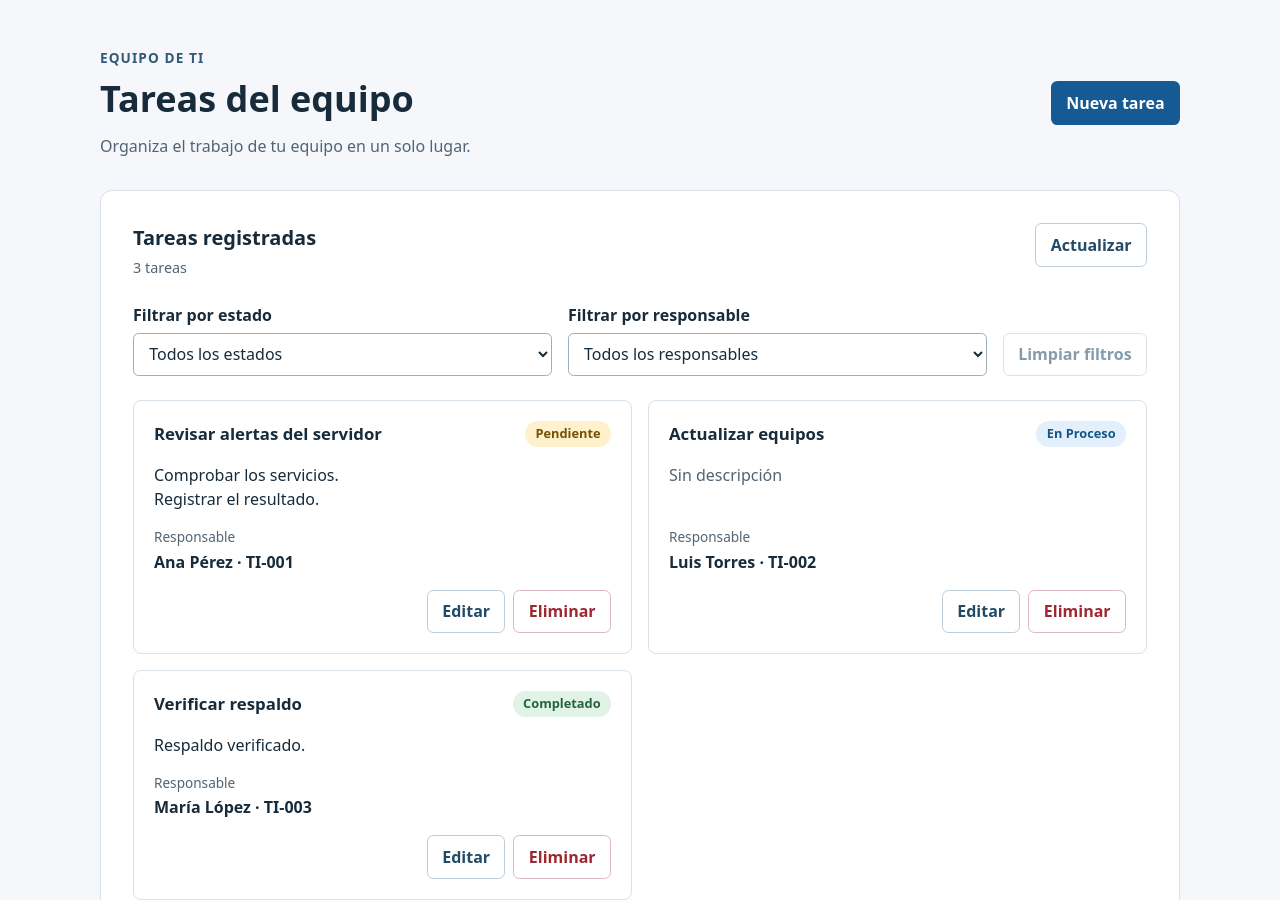
Test case: Filtros de estado y responsable › muestra únicamente las tareas en PENDIENTE
Expected: the list named "Tareas registradas" is shown, [133, 400, 1147, 899]
Select "Pendiente" in the dropdown labelled "Filtrar por estado" at (342, 354), box [133, 333, 552, 376]
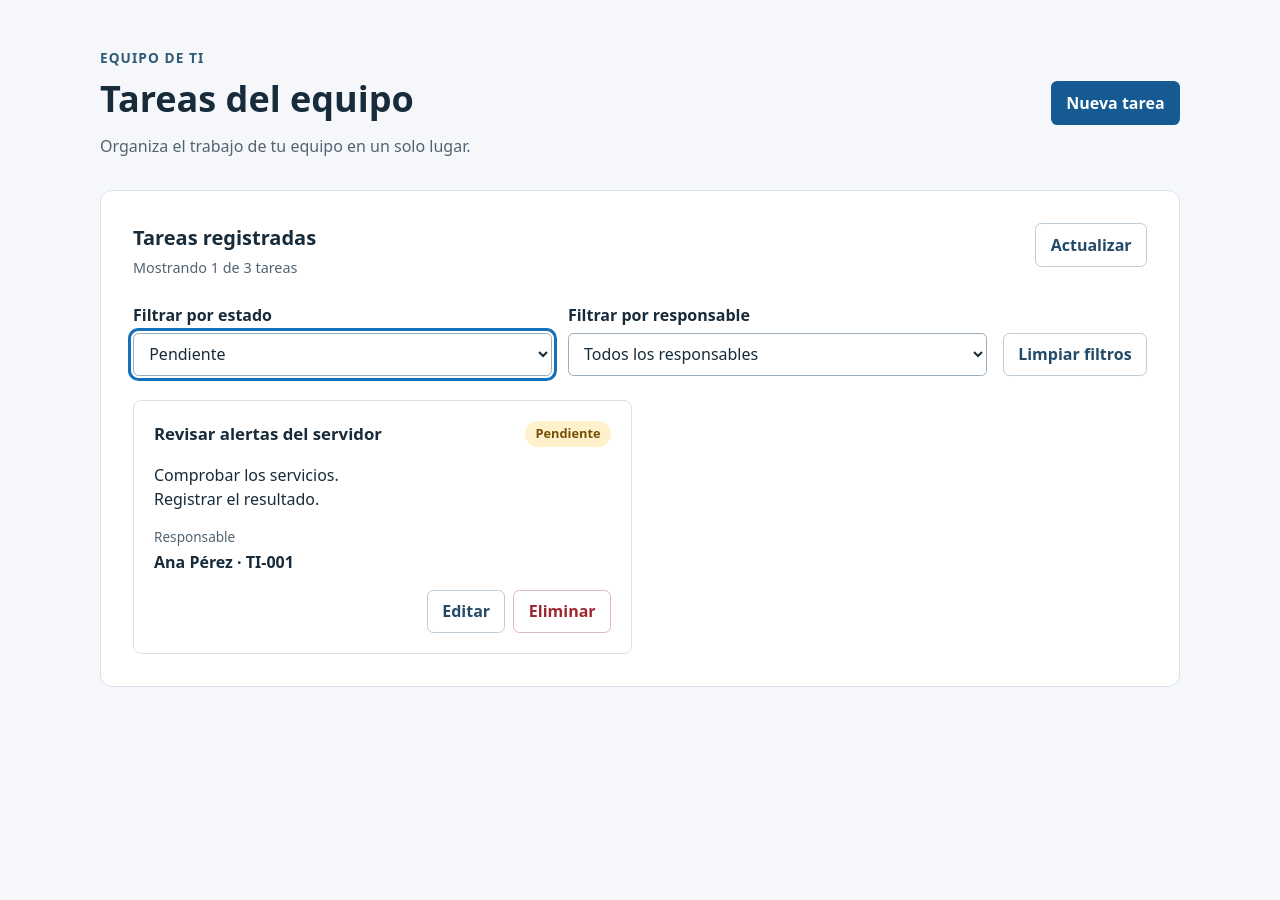
Result: the message reads "Mostrando 1 de 3 tareas" at [133, 257, 316, 279]
